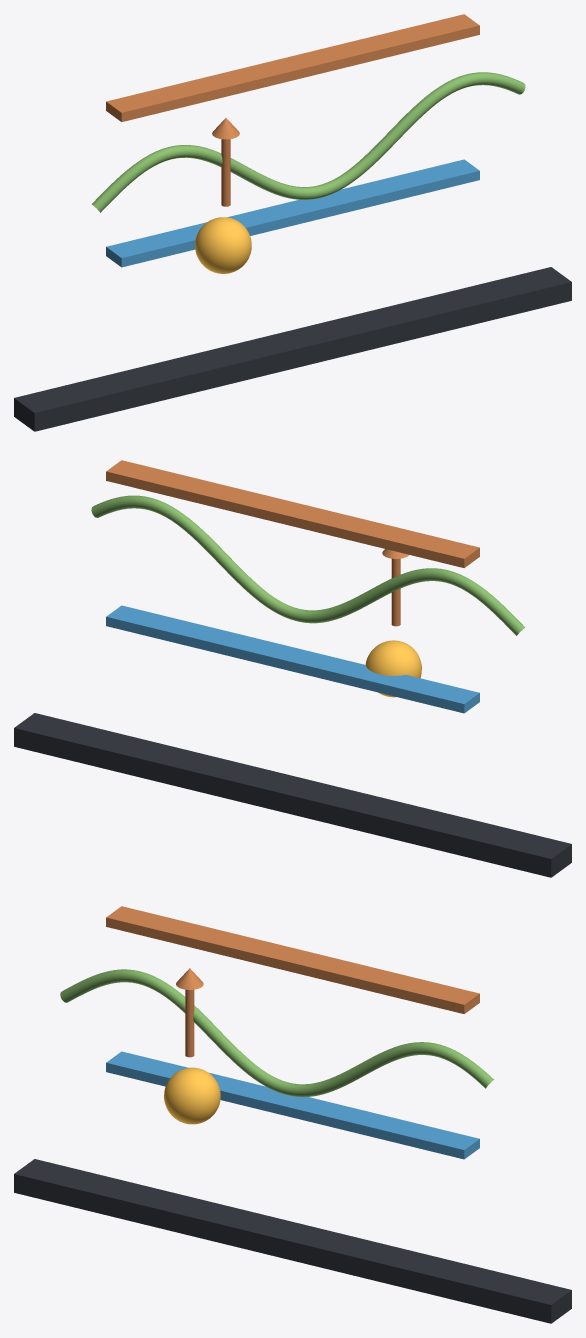
Rendered from physics-modern-energy-level.glb.
The picture shows the model from 3 angles, top to bottom: view 1: azimuth 30°, elevation 25°; view 2: azimuth 150°, elevation 25°; view 3: azimuth 330°, elevation 25°; orthographic projection.
Visible parts, largest first — view 1: modern-physics-bench, upper-level-rail, lower-level-rail, emitted-photon-gap-wave, electron-state-jump, energy-jump-gap-shaft; view 2: modern-physics-bench, upper-level-rail, lower-level-rail, emitted-photon-gap-wave, electron-state-jump, energy-jump-gap-shaft; view 3: modern-physics-bench, upper-level-rail, lower-level-rail, emitted-photon-gap-wave, electron-state-jump, energy-jump-gap-shaft.
Part boxes in pixels (box(x1,y1,x2,y2)): modern-physics-bench: box(14, 267, 571, 431); upper-level-rail: box(106, 14, 479, 121); lower-level-rail: box(106, 159, 479, 267); emitted-photon-gap-wave: box(91, 72, 525, 212); electron-state-jump: box(195, 217, 251, 273); energy-jump-gap-shaft: box(221, 139, 230, 206); modern-physics-bench: box(14, 713, 571, 877); upper-level-rail: box(106, 460, 479, 567); lower-level-rail: box(106, 605, 479, 713); emitted-photon-gap-wave: box(91, 495, 525, 635); electron-state-jump: box(365, 640, 421, 697); energy-jump-gap-shaft: box(391, 558, 400, 626); modern-physics-bench: box(14, 1159, 571, 1323); upper-level-rail: box(106, 906, 479, 1013); lower-level-rail: box(106, 1051, 479, 1159); emitted-photon-gap-wave: box(60, 969, 493, 1097); electron-state-jump: box(164, 1067, 220, 1124); energy-jump-gap-shaft: box(185, 989, 194, 1057).
Size of what is drawn, in the model's own units: 2.4 by 1.26 by 0.31.
